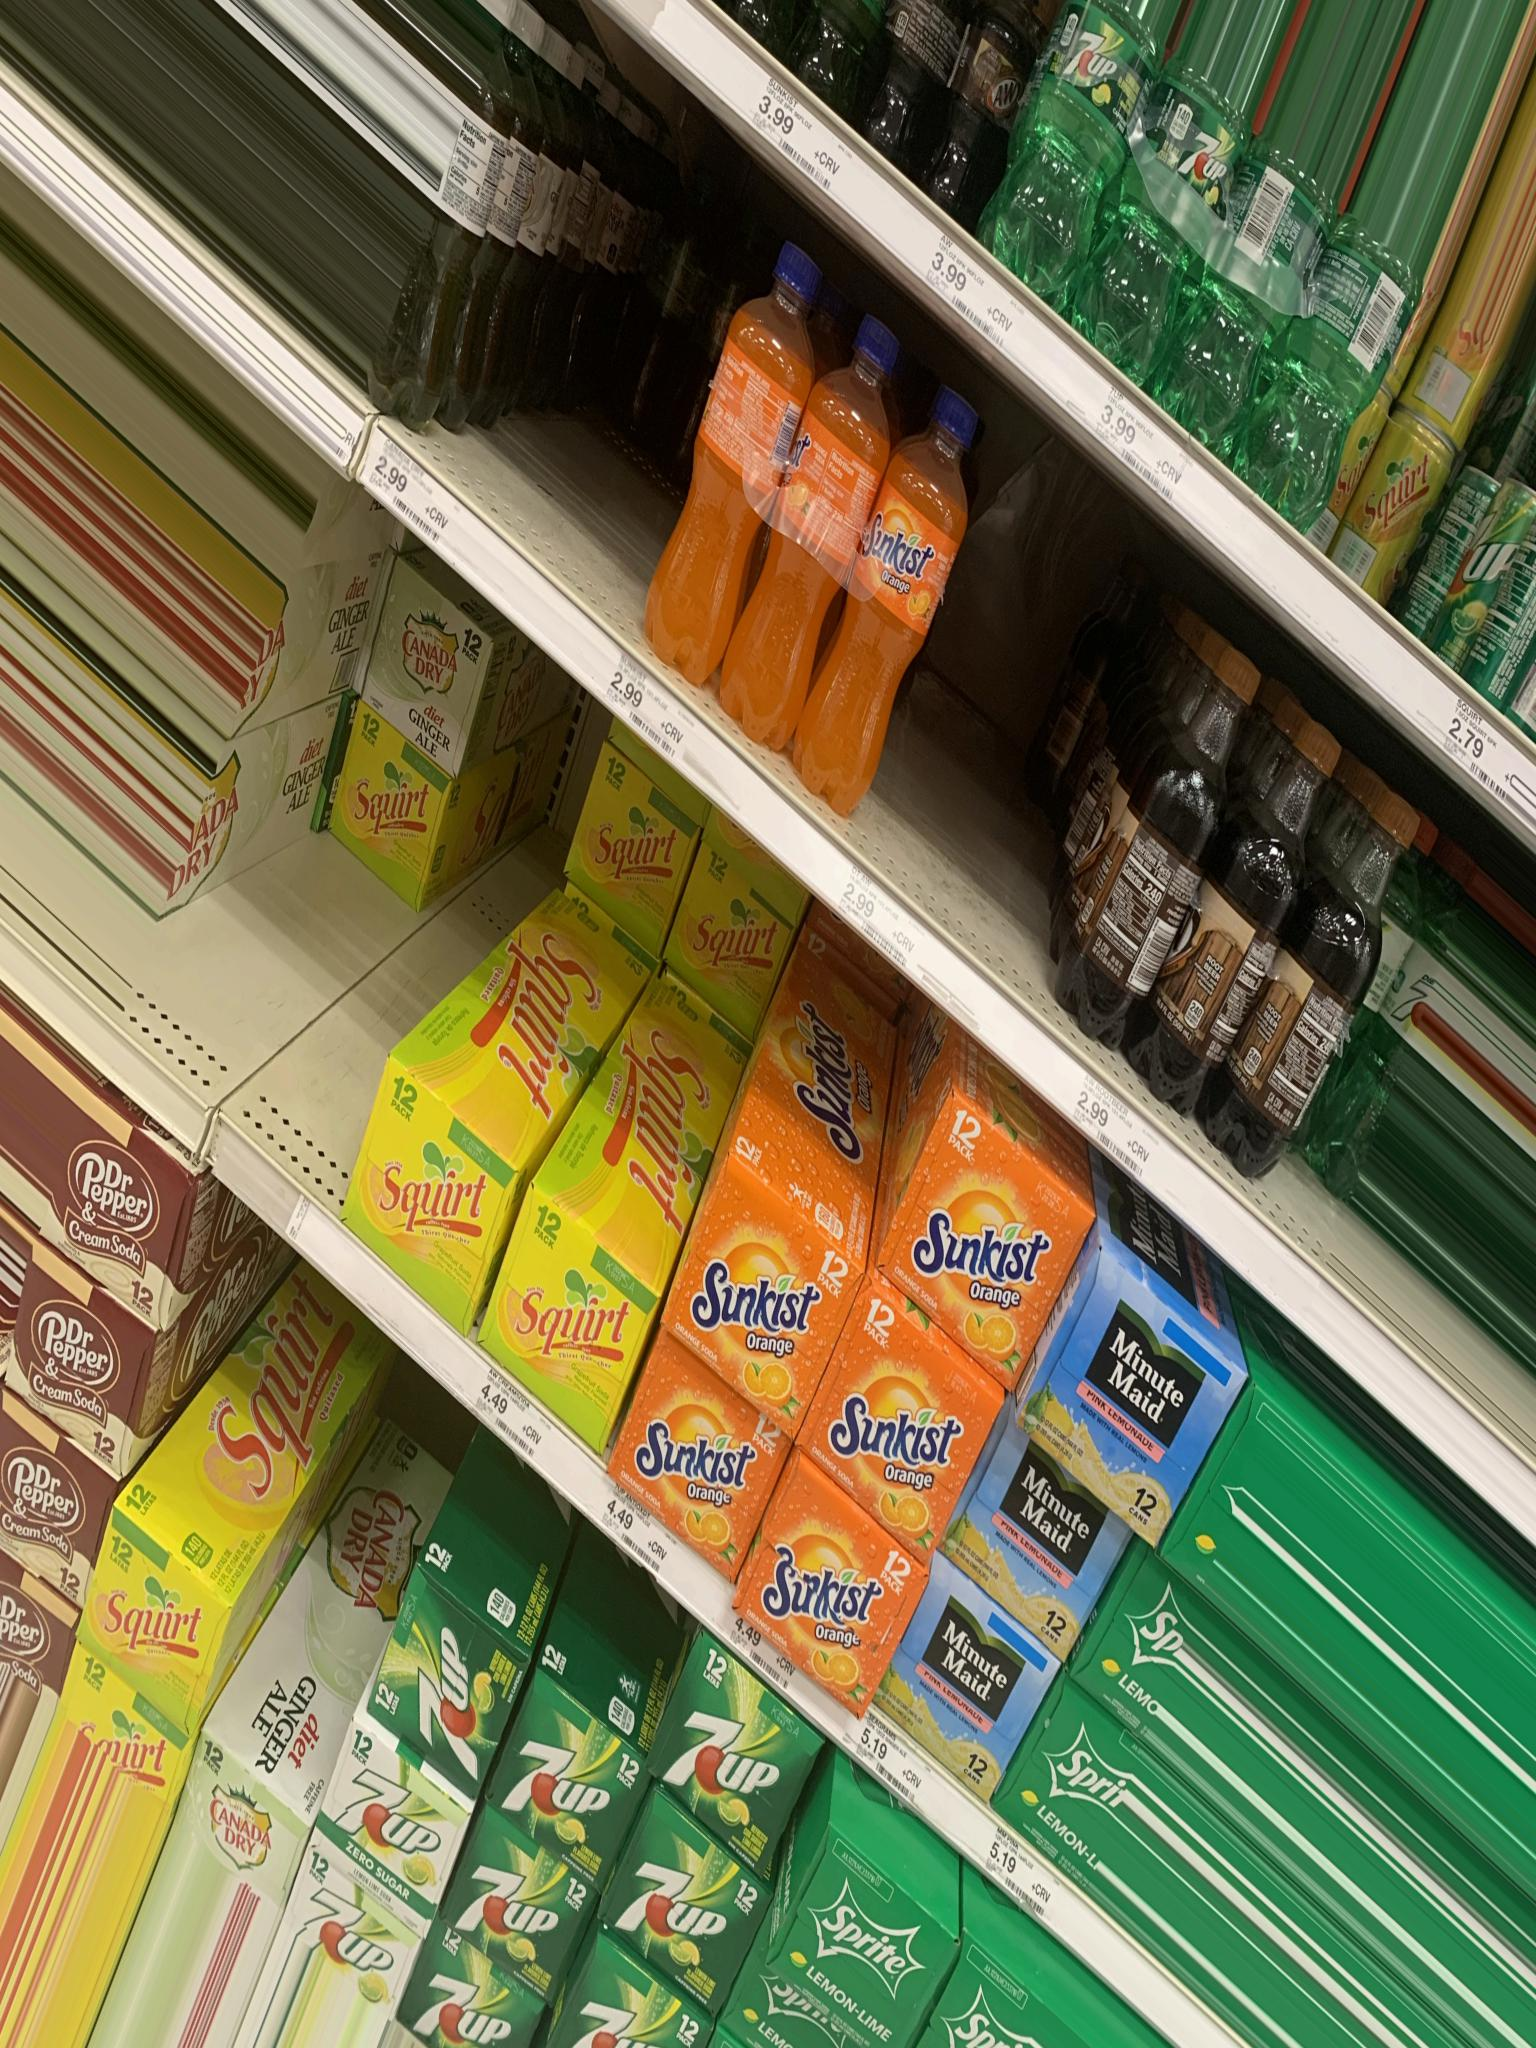soda: (1091, 597, 1371, 1163), (697, 205, 945, 821), (349, 1050, 489, 1332), (481, 1176, 623, 1443), (900, 1085, 1028, 1361), (786, 1837, 944, 2048), (841, 1293, 971, 1546), (86, 1493, 239, 1706), (703, 1184, 823, 1430), (2, 1137, 210, 1269), (8, 1264, 153, 1448), (670, 1650, 768, 1913), (329, 1701, 457, 1901), (452, 1796, 571, 2000)
